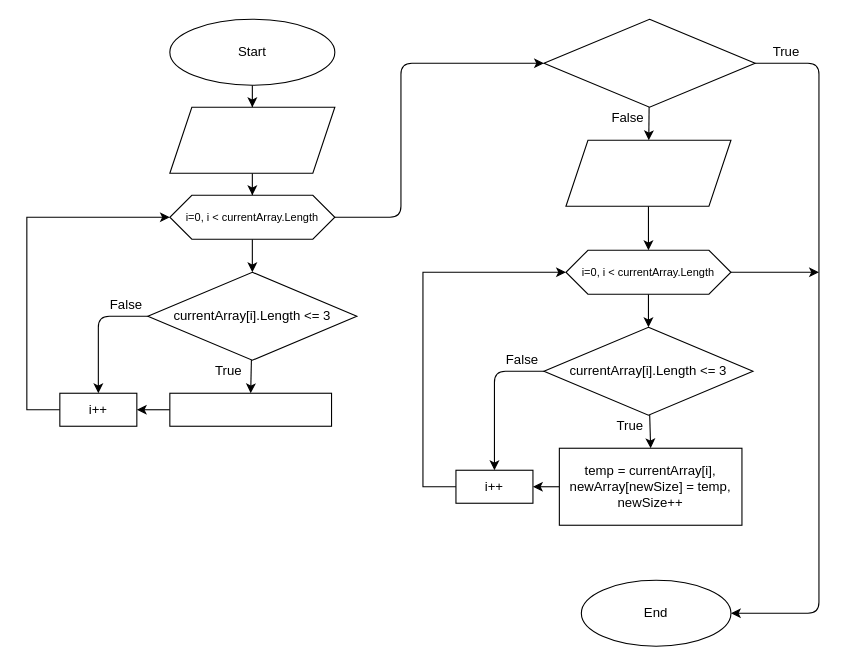
The diagram is 848 pixels wide and 666 high, and some of its shapes have lost their labels. The centre of each missing label's shape, as x and y in pixels:
countElements == 0: (649,62)
countElements++: (250,409)
currentArray[], countElements = 0: (252,139)
temp = "", newSize = 0, newArray[]: (648,172)
